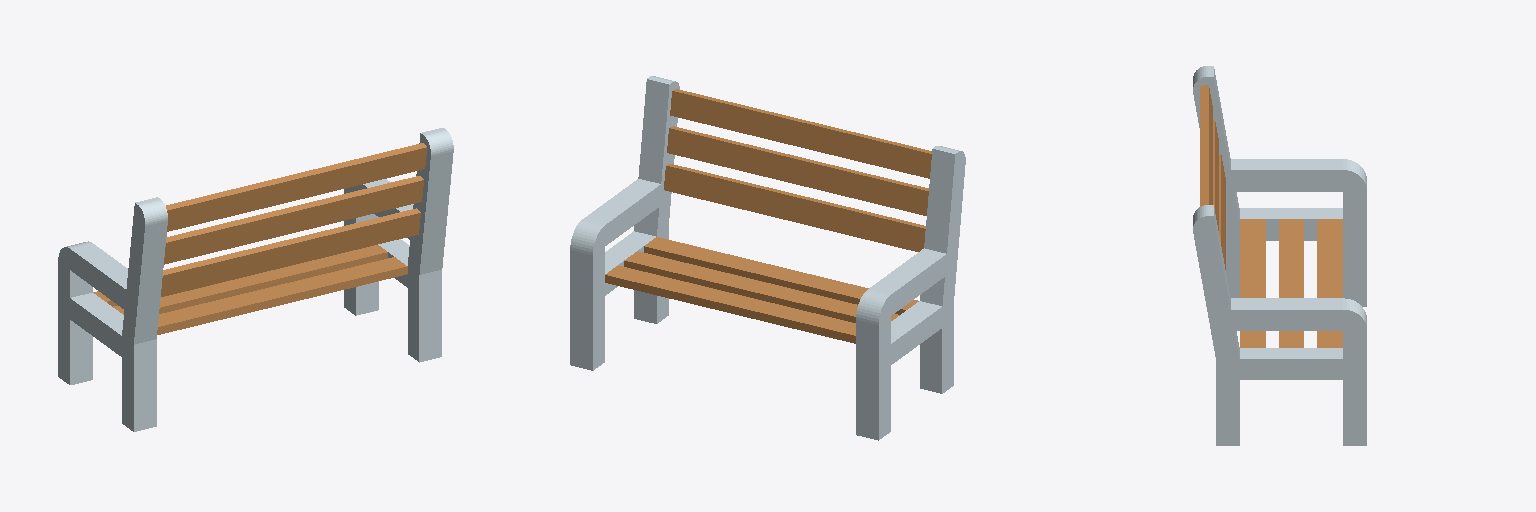
The model's file is bench.obj.
The picture shows the model from 3 angles: view 1: azimuth 30°, elevation 25°; view 2: azimuth 150°, elevation 25°; view 3: azimuth 270°, elevation 25°; orthographic projection.
Visible parts, largest first — view 1: bench %8angles; view 2: bench %8angles; view 3: bench %8angles.
Part boxes in pixels (left/top/right/bottom): bench %8angles: left=58, top=128, right=453, bottom=431; bench %8angles: left=570, top=76, right=965, bottom=440; bench %8angles: left=1193, top=66, right=1366, bottom=445.
Bounding box in the file's own units: 0.7695 × 0.549 × 0.3763.